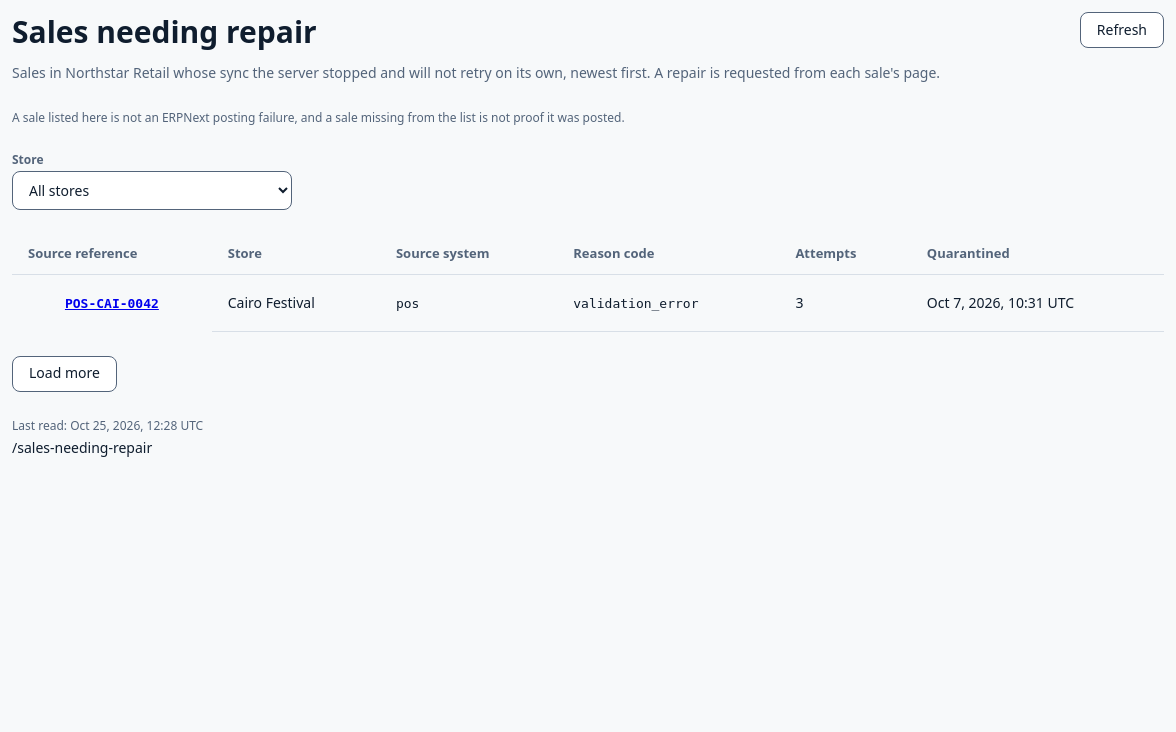
Scenario: NeedsRepairList (RT-726) › Load more follows the server's cursor; a failed page keeps the rows
Expected: the link with aria-label "Open sale POS-CAI-0042" is shown, [65, 293, 159, 312]
Click the button "Load more" at (64, 374), box [12, 356, 117, 392]
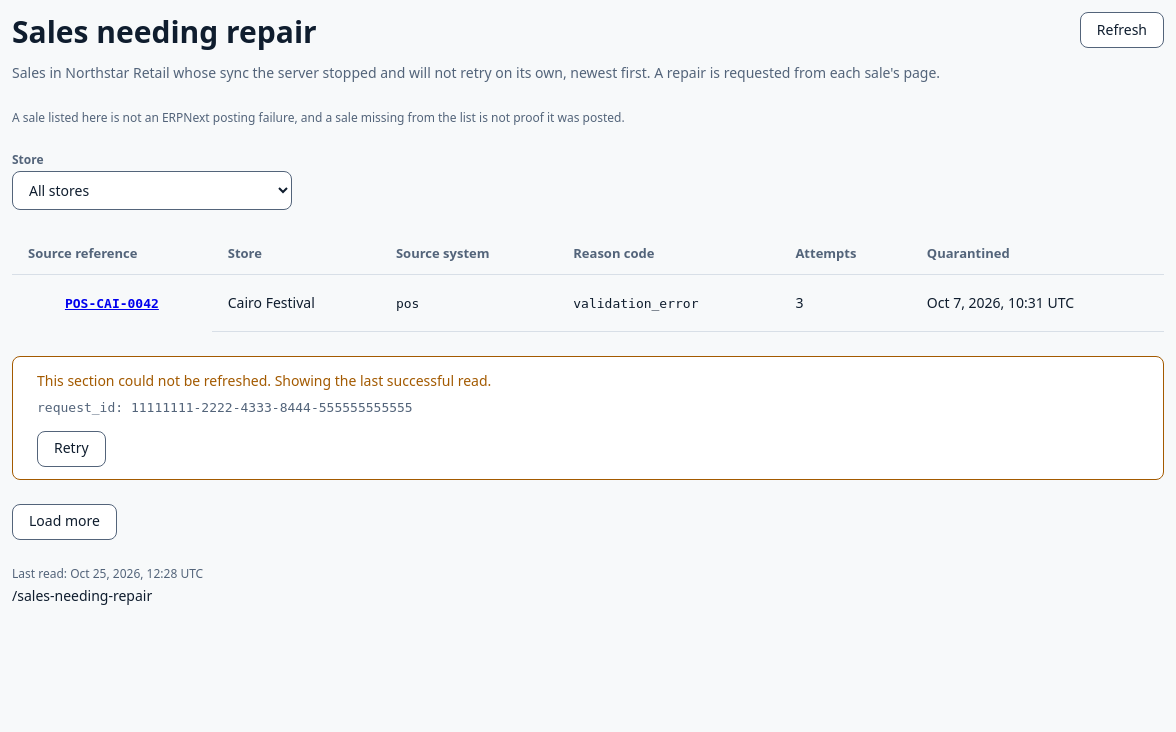
Expected: the link with aria-label "Open sale POS-CAI-0042" is shown, [65, 293, 159, 312]
Click the button "Retry" at (71, 449), box [37, 431, 106, 467]
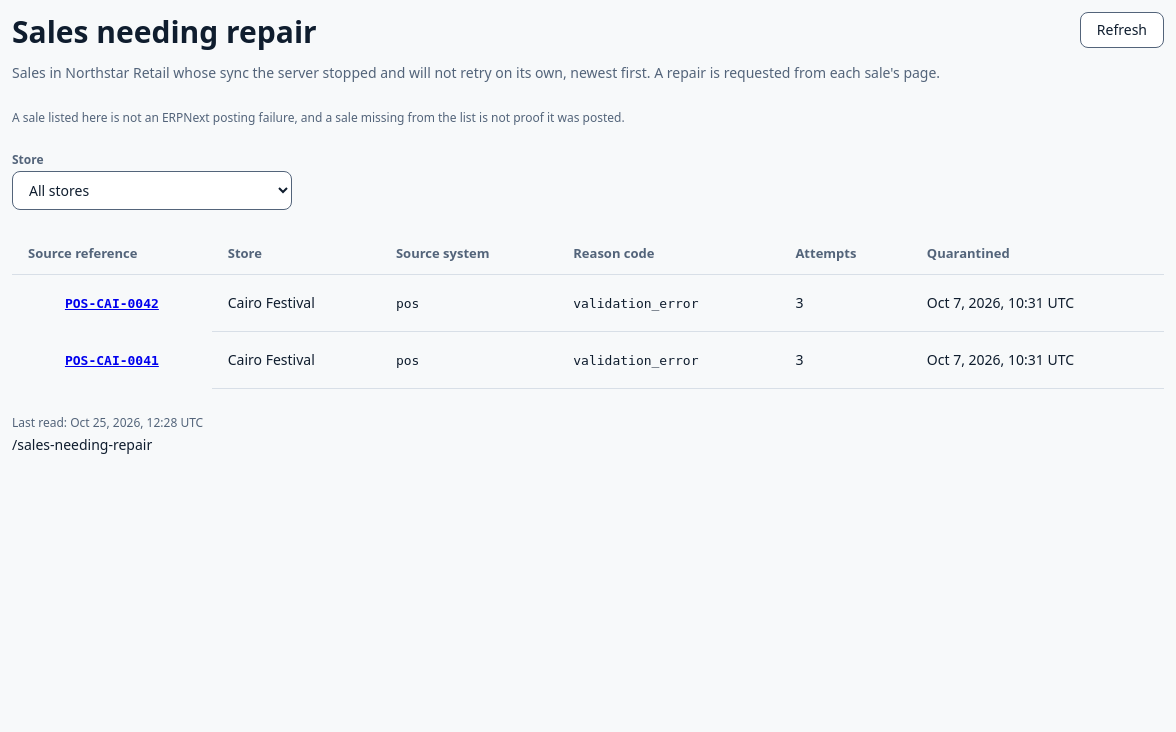
Expected: the link with aria-label "Open sale POS-CAI-0041" is shown, [65, 350, 159, 369]
Expected: the button "Load more" is gone
